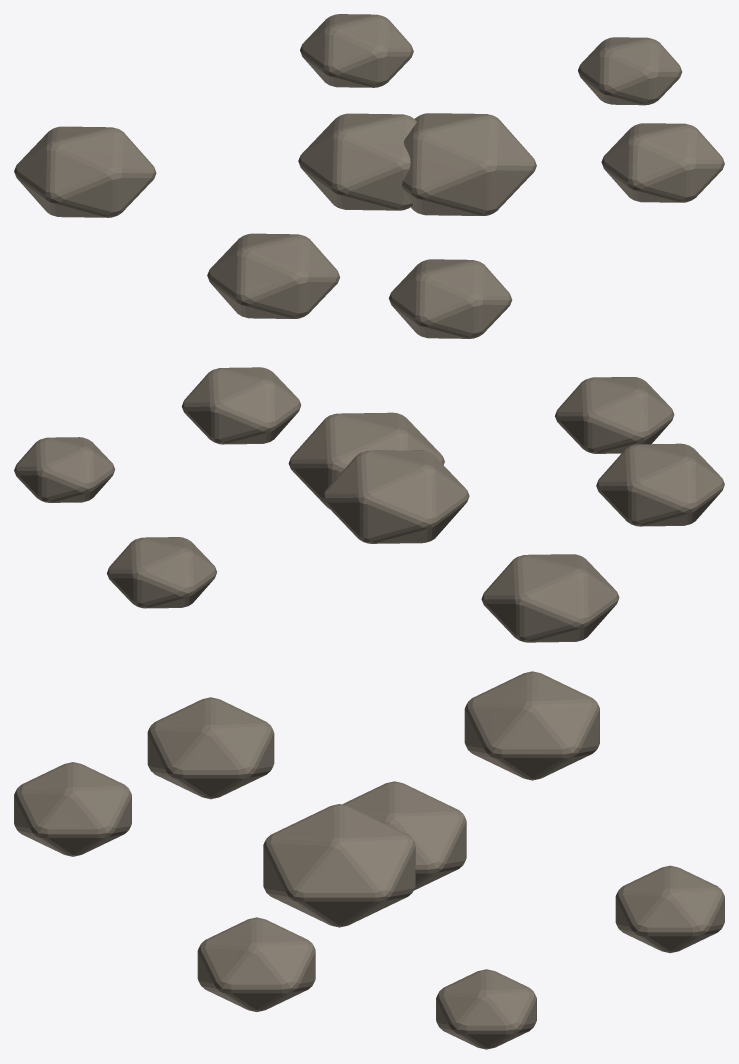
File: prop_scree.glb
3 views of the same model, one above another, from view 1: azimuth 30°, elevation 25°; view 2: azimuth 150°, elevation 25°; view 3: azimuth 270°, elevation 25° (orthographic). The views are drawn at different scales.
Visible parts, largest first — view 1: prop_scree_part_0; view 2: prop_scree_part_0; view 3: prop_scree_part_0.
Boxes of the visible parts, box(x1,y1,x2,y2) form: prop_scree_part_0: box(14, 14, 724, 338); prop_scree_part_0: box(14, 367, 724, 642); prop_scree_part_0: box(14, 671, 724, 1049).
Bounding box in the file's own units: 1.65 × 0.2173 × 1.55.
